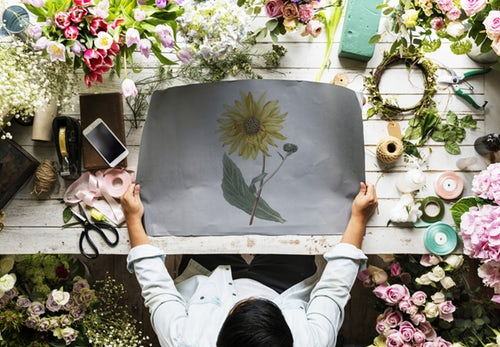phone: (81, 118, 131, 167)
